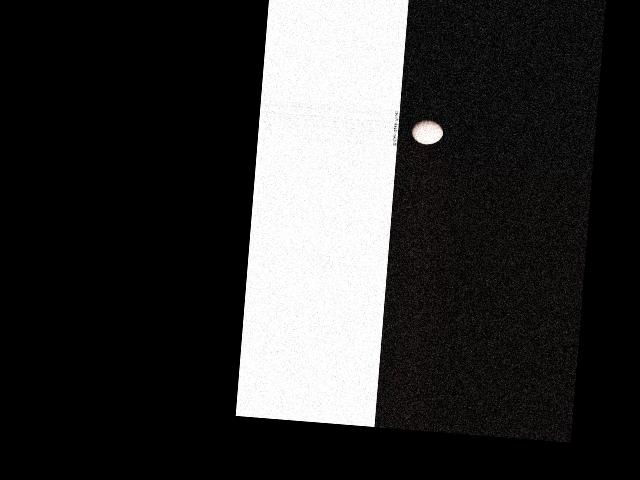egg: (410, 118, 443, 145)
